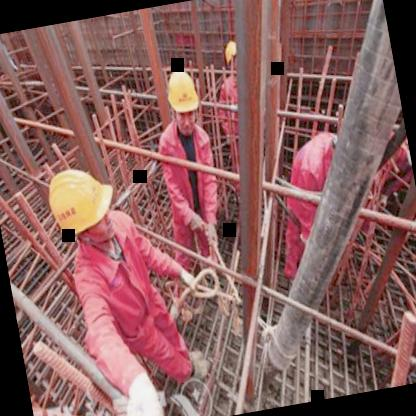helmet: (39, 158, 119, 254), (160, 60, 207, 140), (220, 36, 248, 76)
